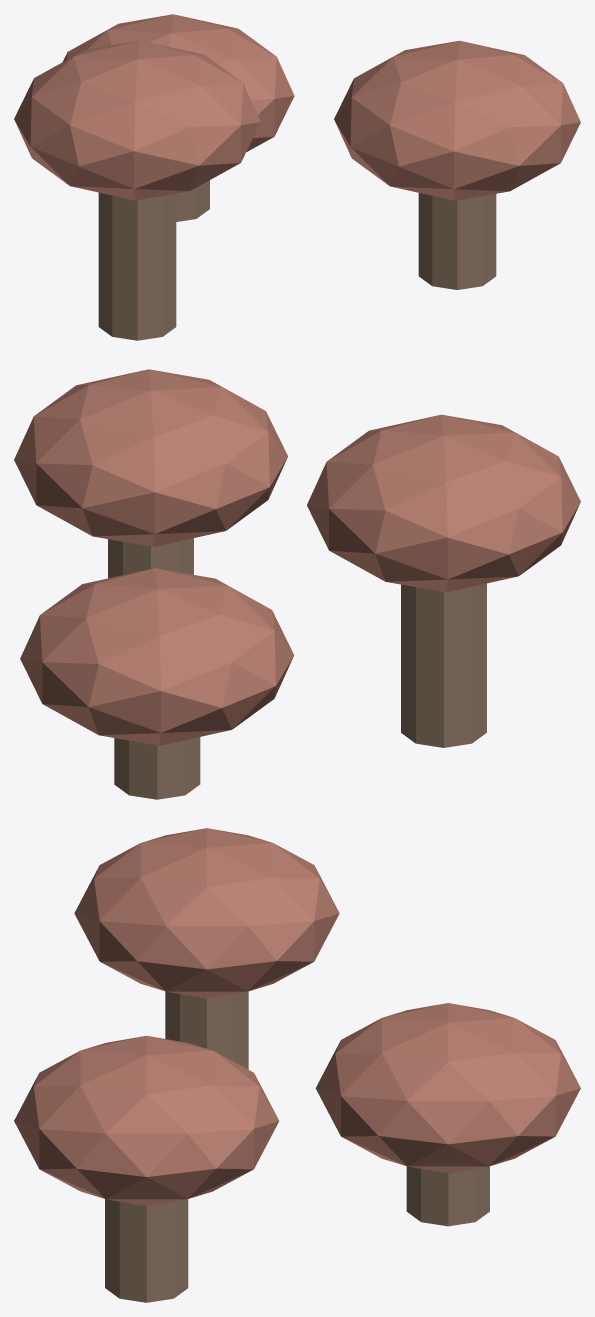
The model's file is setas.glb.
The picture shows the model from 3 angles, top to bottom: view 1: azimuth 30°, elevation 25°; view 2: azimuth 150°, elevation 25°; view 3: azimuth 270°, elevation 25°; orthographic projection. The views are drawn at different scales.
Visible parts, largest first — view 1: world; view 2: world; view 3: world.
Boxes of the visible parts, <box> form: world: <box>14,14,580,340</box>; world: <box>14,369,580,799</box>; world: <box>14,828,580,1302</box>.
Size of the model in its own units: 1.04 by 0.52 by 0.94.
